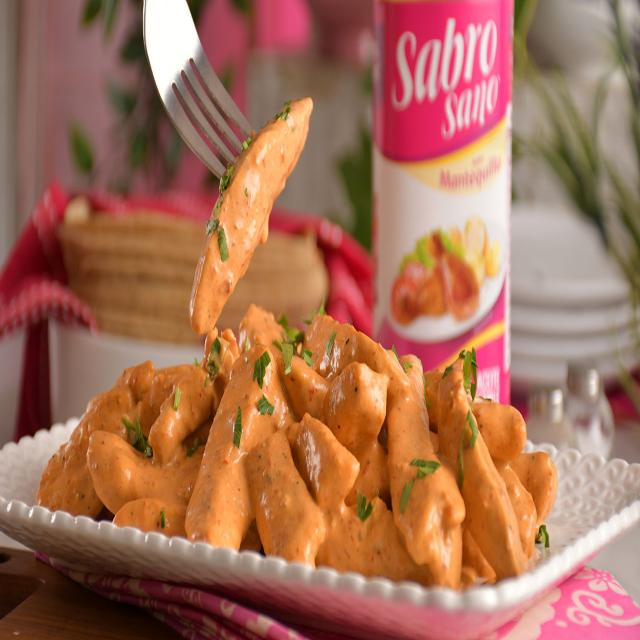pollo: (36, 246, 588, 611)
